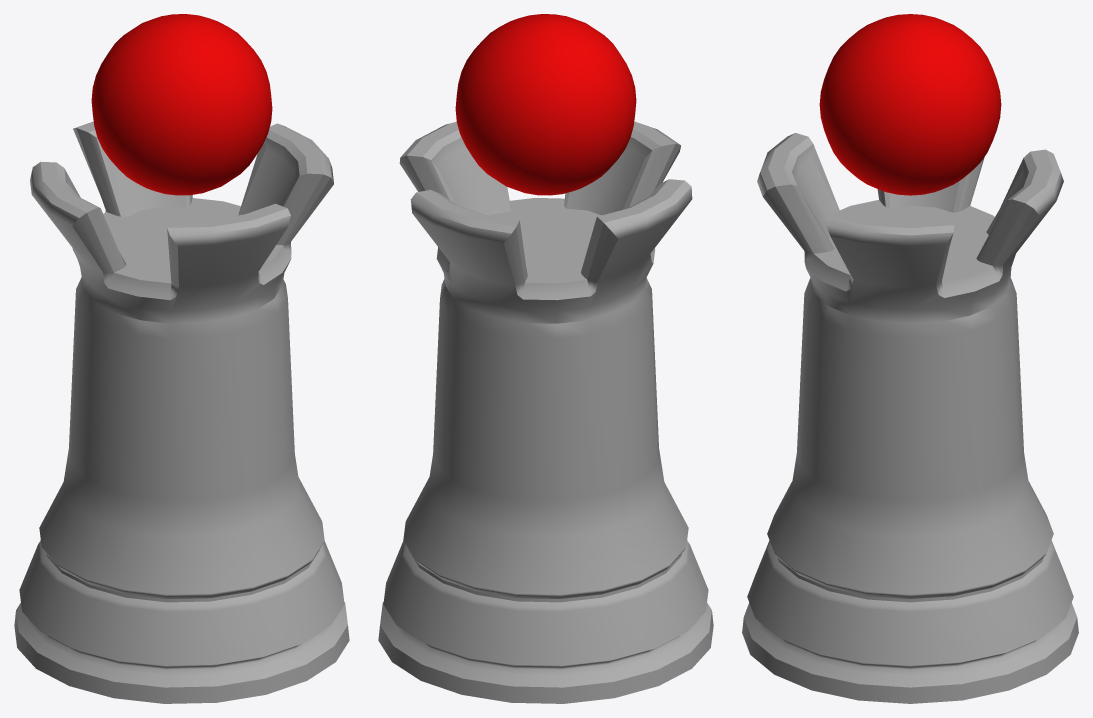
Rendered from path 3.fbx.
3 views of the same model, side by side, from view 1: azimuth 30°, elevation 25°; view 2: azimuth 150°, elevation 25°; view 3: azimuth 270°, elevation 25° (orthographic).
Visible parts, largest first — view 1: magic_orb_path_3; view 2: magic_orb_path_3; view 3: magic_orb_path_3.
Part boxes in pixels (left/top/right/bottom): magic_orb_path_3: left=14, top=14, right=349, bottom=703; magic_orb_path_3: left=378, top=14, right=713, bottom=703; magic_orb_path_3: left=742, top=14, right=1078, bottom=703.
Bounding box in the file's own units: 194 × 388 × 194.
